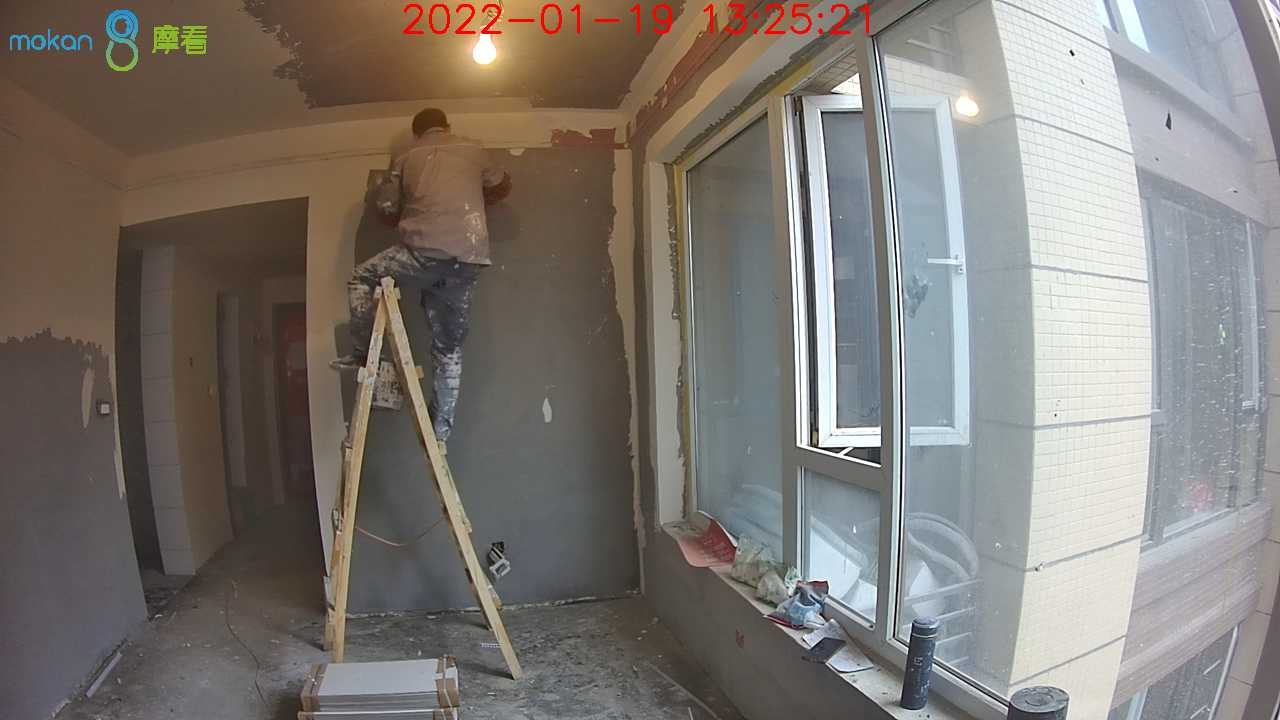people: (336, 106, 501, 444)
window: (672, 2, 1280, 720)
